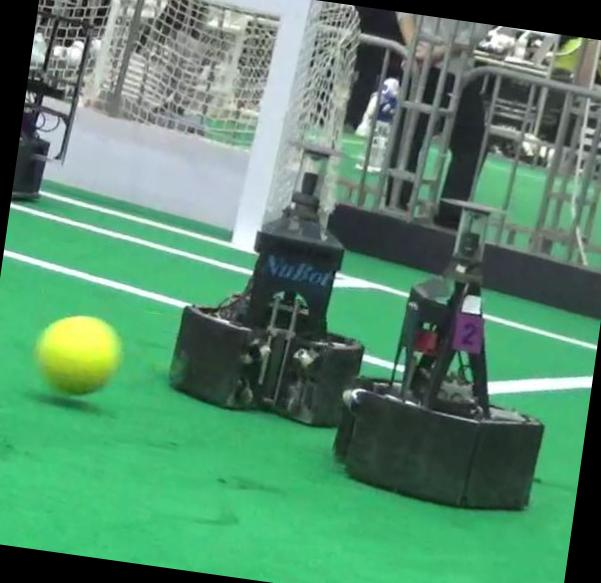ball: (34, 314, 119, 393)
goal: (231, 0, 310, 250)
robot: (334, 200, 545, 510), (169, 150, 364, 425), (10, 11, 88, 198)
